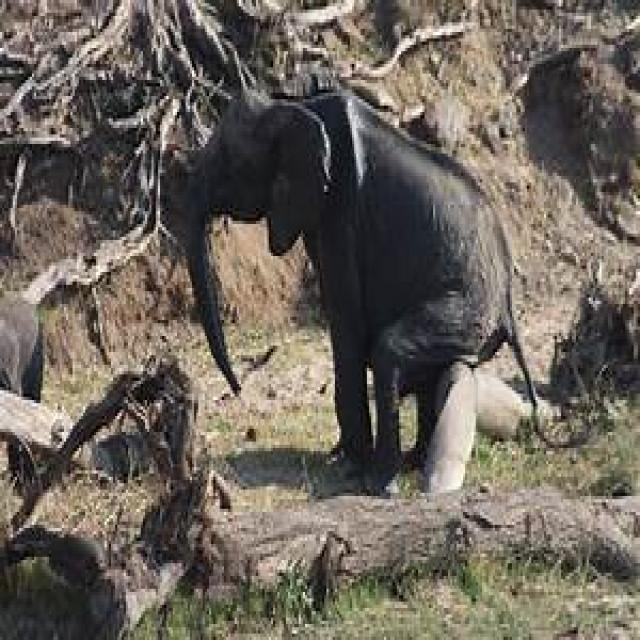elephant: (169, 93, 529, 496)
